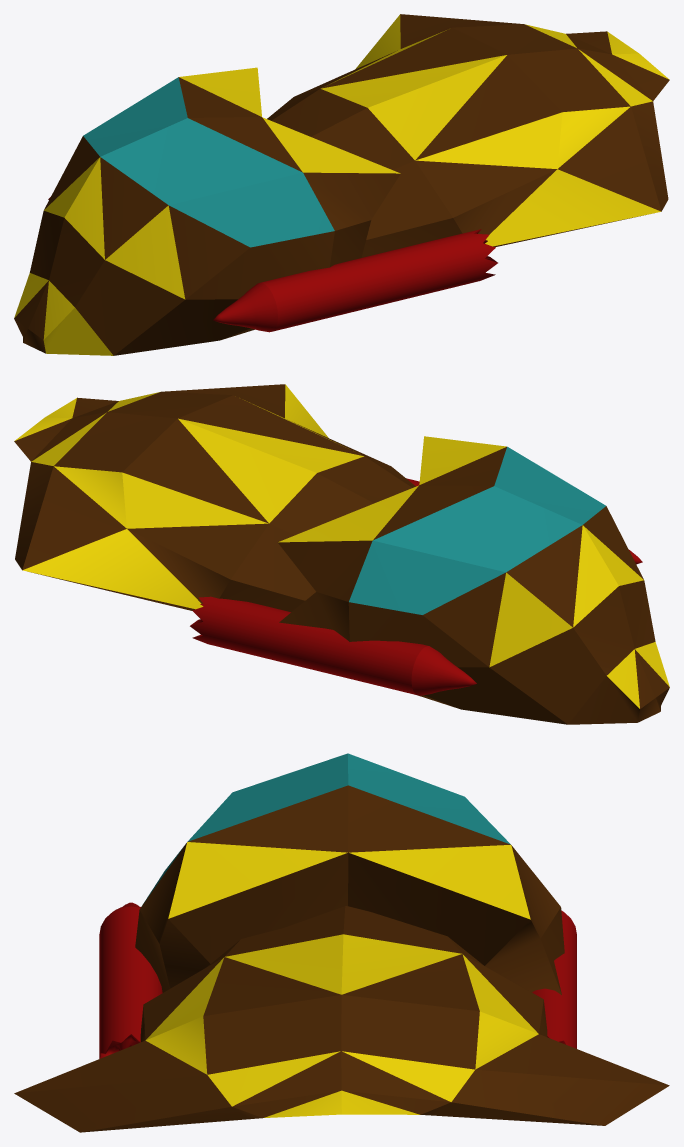
File: NormalRedux.fbx
3 renders of one model, top to bottom at view 1: azimuth 30°, elevation 25°; view 2: azimuth 150°, elevation 25°; view 3: azimuth 270°, elevation 25°, orthographic. The views are drawn at different scales.
Visible parts, largest first — view 1: pPyramid1, pCylinder2; view 2: pPyramid1, pCylinder1; view 3: pPyramid1, pCylinder2, pCylinder1.
Boxes of the visible parts, left/top/right/bottom form: pPyramid1: left=14, top=14, right=669, bottom=355; pCylinder2: left=213, top=229, right=497, bottom=332; pPyramid1: left=14, top=384, right=669, bottom=724; pCylinder1: left=190, top=596, right=476, bottom=695; pPyramid1: left=14, top=753, right=669, bottom=1132; pCylinder2: left=99, top=902, right=162, bottom=1058; pCylinder1: left=532, top=910, right=576, bottom=1048.
Bounding box in the file's own units: 8.36 × 2.59 × 6.16.
